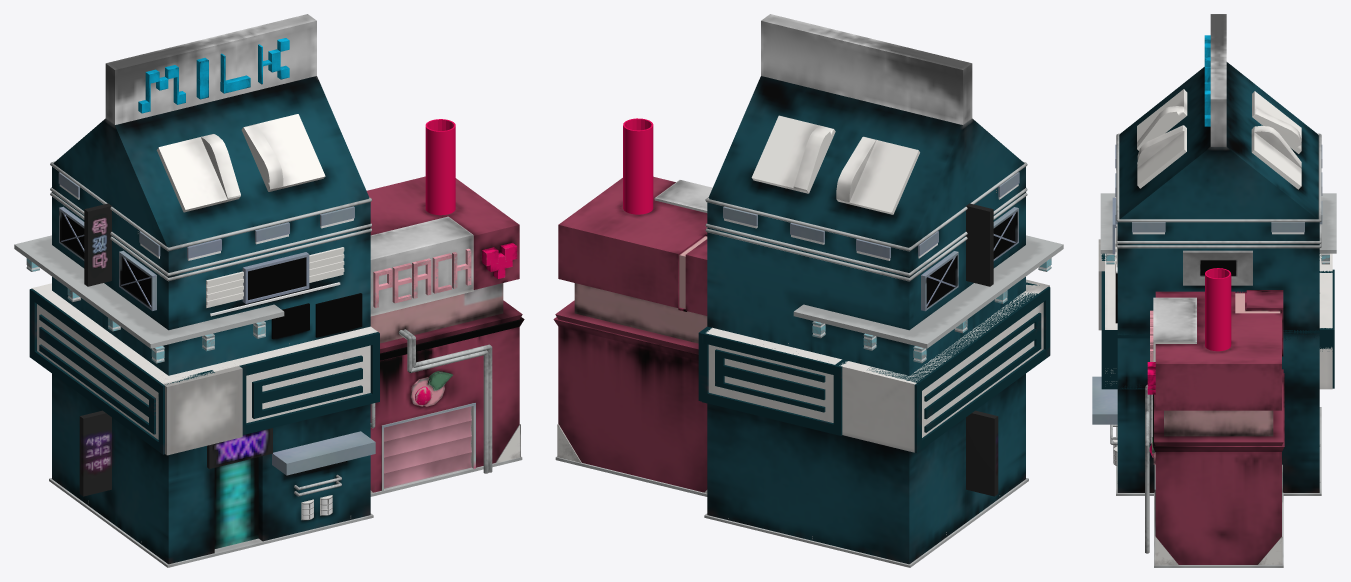
3 renders of one model, left to right at view 1: azimuth 30°, elevation 25°; view 2: azimuth 150°, elevation 25°; view 3: azimuth 270°, elevation 25°, orthographic. The views are drawn at different scales.
Visible parts, largest first — view 1: MilkBuilding, JuiceBuilding, MiddlePlatform, PeachSign, LampPlatform, SignMiddle, Garage, WindowUp3, WindowUp4, Straw, Sign2, Rainprotection (+26 smaller); view 2: MilkBuilding, JuiceBuilding, MiddlePlatform, LampPlatform, WindowUp1, WindowUp2, DecoSignMiddle10, Straw, Sign2, Sign1, DecoSignMiddle18, DecoSignMiddle11 (+18 smaller); view 3: MilkBuilding, JuiceBuilding, MiddlePlatform, Straw, PeachSign, WindowBack, WindowUp2, WindowUp4, LampPlatform, Pipe5, WindowUp3, WindowUp1 (+14 smaller).
Part boxes in pixels (left/top/right/bottom): MilkBuilding: left=52, top=14, right=370, bottom=564; JuiceBuilding: left=366, top=176, right=524, bottom=492; MiddlePlatform: left=31, top=283, right=377, bottom=439; PeachSign: left=370, top=216, right=473, bottom=316; LampPlatform: left=14, top=235, right=284, bottom=348; SignMiddle: left=136, top=361, right=242, bottom=455; Garage: left=384, top=406, right=471, bottom=488; WindowUp3: left=156, top=134, right=240, bottom=212; WindowUp4: left=241, top=114, right=325, bottom=191; Straw: left=425, top=119, right=455, bottom=215; Sign2: left=79, top=410, right=111, bottom=496; Rainprotection: left=272, top=431, right=375, bottom=475; MilkBuilding: left=707, top=14, right=1025, bottom=564; JuiceBuilding: left=553, top=176, right=707, bottom=492; MiddlePlatform: left=706, top=291, right=1036, bottom=452; LampPlatform: left=793, top=235, right=1063, bottom=348; WindowUp1: left=836, top=136, right=919, bottom=214; WindowUp2: left=751, top=115, right=835, bottom=193; DecoSignMiddle10: left=867, top=287, right=1050, bottom=392; Straw: left=623, top=118, right=653, bottom=214; Sign2: left=966, top=410, right=998, bottom=496; Sign1: left=966, top=203, right=993, bottom=286; DecoSignMiddle18: left=702, top=392, right=842, bottom=435; DecoSignMiddle11: left=919, top=347, right=1050, bottom=451; MilkBuilding: left=1117, top=14, right=1319, bottom=492; JuiceBuilding: left=1153, top=290, right=1284, bottom=564; MiddlePlatform: left=1105, top=253, right=1332, bottom=389; Straw: left=1205, top=268, right=1231, bottom=351; PeachSign: left=1153, top=297, right=1196, bottom=361; WindowBack: left=1183, top=250, right=1252, bottom=285; WindowUp2: left=1251, top=125, right=1301, bottom=189; WindowUp4: left=1137, top=125, right=1186, bottom=188; LampPlatform: left=1100, top=193, right=1336, bottom=253; Pipe5: left=1116, top=133, right=1321, bottom=222; WindowUp3: left=1137, top=89, right=1187, bottom=150; WindowUp1: left=1252, top=91, right=1301, bottom=153.
Size of the model in its own units: 10.15 by 10.96 by 6.14.
1 material, 1 textured.
